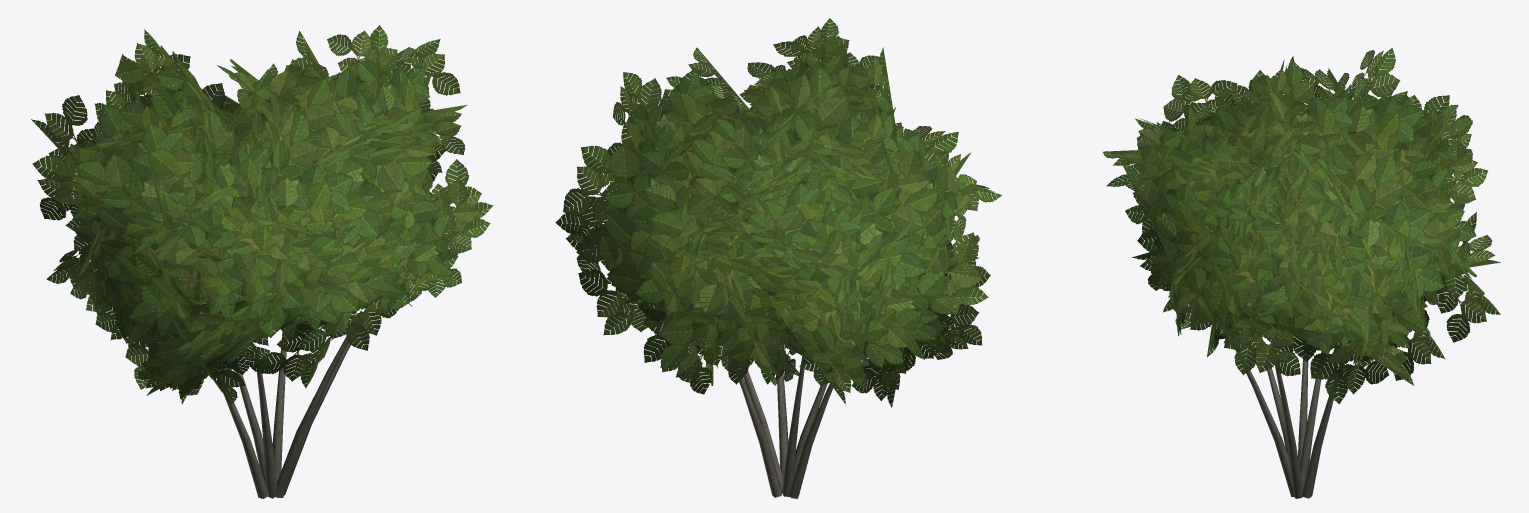
Rendered from bush_a.glb.
3 renders of one model, left to right at view 1: azimuth 30°, elevation 25°; view 2: azimuth 150°, elevation 25°; view 3: azimuth 270°, elevation 25°, orthographic. The views are drawn at different scales.
Parts seen in each view (by area): view 1: bush_a; view 2: bush_a; view 3: bush_a.
Boxes of the visible parts, x1=… form: bush_a: x1=31, y1=25, x2=493, y2=498; bush_a: x1=555, y1=18, x2=1001, y2=498; bush_a: x1=1103, y1=48, x2=1500, y2=498.
Bounding box in the file's own units: 1.72 × 1.69 × 1.67.
2 materials, 2 textured.
